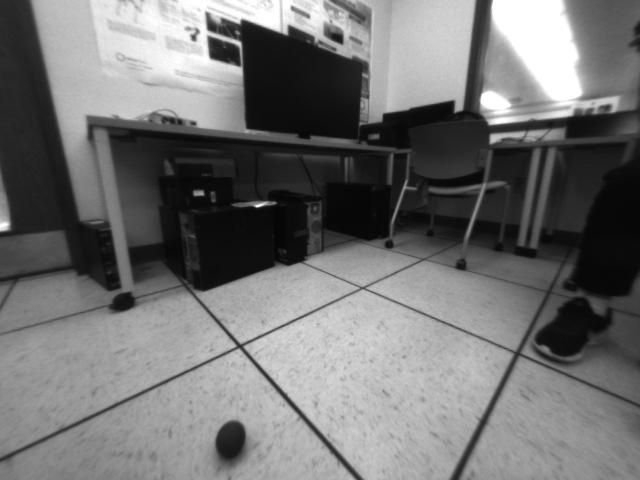dogtoy: (207, 414, 260, 466)
